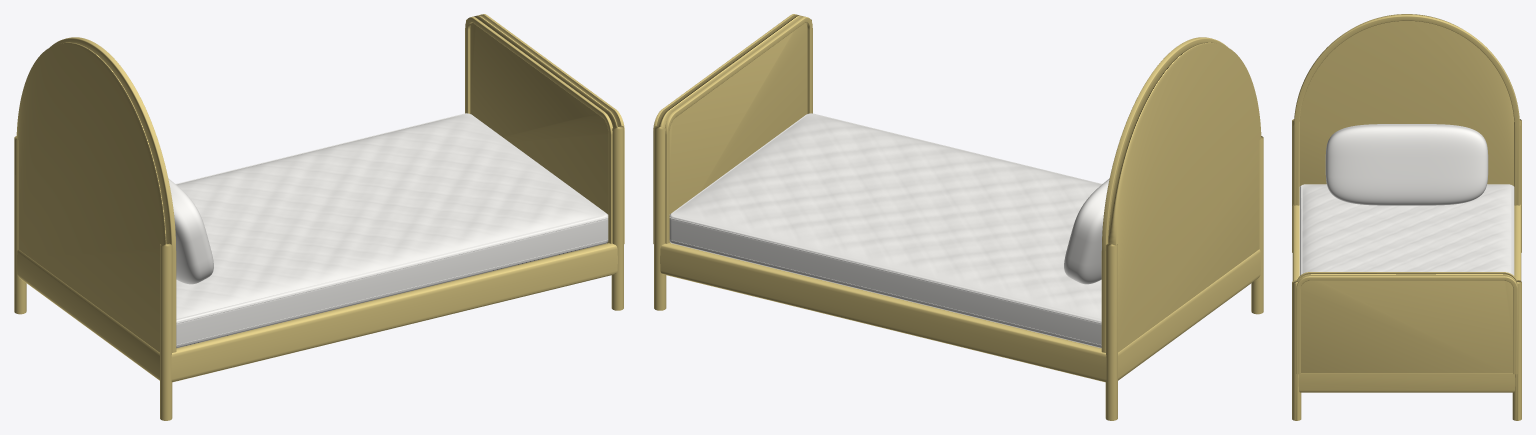
File: yellow_toto3_youth.glb
3 views of the same model, side by side, from view 1: azimuth 30°, elevation 25°; view 2: azimuth 150°, elevation 25°; view 3: azimuth 270°, elevation 25° (orthographic). The views are drawn at different scales.
Visible parts, largest first — view 1: White diamond quilted comforter, Solid arched headboard, Long base rail, Solid footboard with softened top corners, Fitted ivory mattress covering bed deck 2000 x 1110 x 120 mm, Rounded corner leg (×3), End base rail, Soft white rectangular pillow, Footboard outer rounded molding, Raised rounded arch border, Mattress piping (×2); view 2: White diamond quilted comforter, Solid arched headboard, Long base rail, Solid footboard with softened top corners, Fitted ivory mattress covering bed deck 2000 x 1110 x 120 mm, Rounded corner leg (×3), End base rail, Soft white rectangular pillow, Footboard outer rounded molding, Raised rounded arch border, Mattress piping (×2); view 3: Solid arched headboard, Solid footboard with softened top corners, White diamond quilted comforter, Soft white rectangular pillow, End base rail, Raised rounded arch border, Rounded corner leg (×4), Footboard outer rounded molding (×2), Long base rail (×2), Fitted ivory mattress covering bed deck 2000 x 1110 x 120 mm.
Part boxes in pixels (x1=…): White diamond quilted comforter: x1=176, y1=113, x2=605, y2=318; Solid arched headboard: x1=16, y1=42, x2=169, y2=352; Long base rail: x1=171, y1=243, x2=617, y2=382; Solid footboard with softened top corners: x1=470, y1=14, x2=621, y2=214; Fitted ivory mattress covering bed deck 2000 x 1110 x 120 mm: x1=176, y1=113, x2=608, y2=348; Rounded corner leg (×3): x1=14, y1=126, x2=623, y2=420; End base rail: x1=17, y1=249, x2=159, y2=380; Soft white rectangular pillow: x1=168, y1=178, x2=213, y2=284; Footboard outer rounded molding: x1=465, y1=16, x2=612, y2=243; Raised rounded arch border: x1=50, y1=37, x2=176, y2=352; Mattress piping (×2): x1=176, y1=217, x2=608, y2=345; White diamond quilted comforter: x1=672, y1=113, x2=1101, y2=318; Solid arched headboard: x1=1108, y1=42, x2=1261, y2=352; Long base rail: x1=660, y1=243, x2=1106, y2=382; Solid footboard with softened top corners: x1=656, y1=14, x2=807, y2=214; Fitted ivory mattress covering bed deck 2000 x 1110 x 120 mm: x1=669, y1=113, x2=1101, y2=348; Rounded corner leg (×3): x1=654, y1=126, x2=1263, y2=420; End base rail: x1=1118, y1=249, x2=1260, y2=380; Soft white rectangular pillow: x1=1064, y1=178, x2=1109, y2=284; Footboard outer rounded molding: x1=665, y1=16, x2=812, y2=243; Raised rounded arch border: x1=1101, y1=37, x2=1227, y2=352; Mattress piping (×2): x1=669, y1=217, x2=1101, y2=345; Solid arched headboard: x1=1299, y1=14, x2=1514, y2=185; Solid footboard with softened top corners: x1=1297, y1=272, x2=1516, y2=372; White diamond quilted comforter: x1=1302, y1=184, x2=1511, y2=273; Soft white rectangular pillow: x1=1325, y1=124, x2=1488, y2=205; End base rail: x1=1298, y1=373, x2=1515, y2=392; Raised rounded arch border: x1=1293, y1=14, x2=1520, y2=205; Rounded corner leg (×4): x1=1292, y1=119, x2=1521, y2=420; Footboard outer rounded molding (×2): x1=1296, y1=272, x2=1517, y2=374; Long base rail (×2): x1=1292, y1=204, x2=1521, y2=280; Fitted ivory mattress covering bed deck 2000 x 1110 x 120 mm: x1=1300, y1=184, x2=1513, y2=275.
Bounding box in the file's own units: 2.1 × 1.37 × 1.19.
